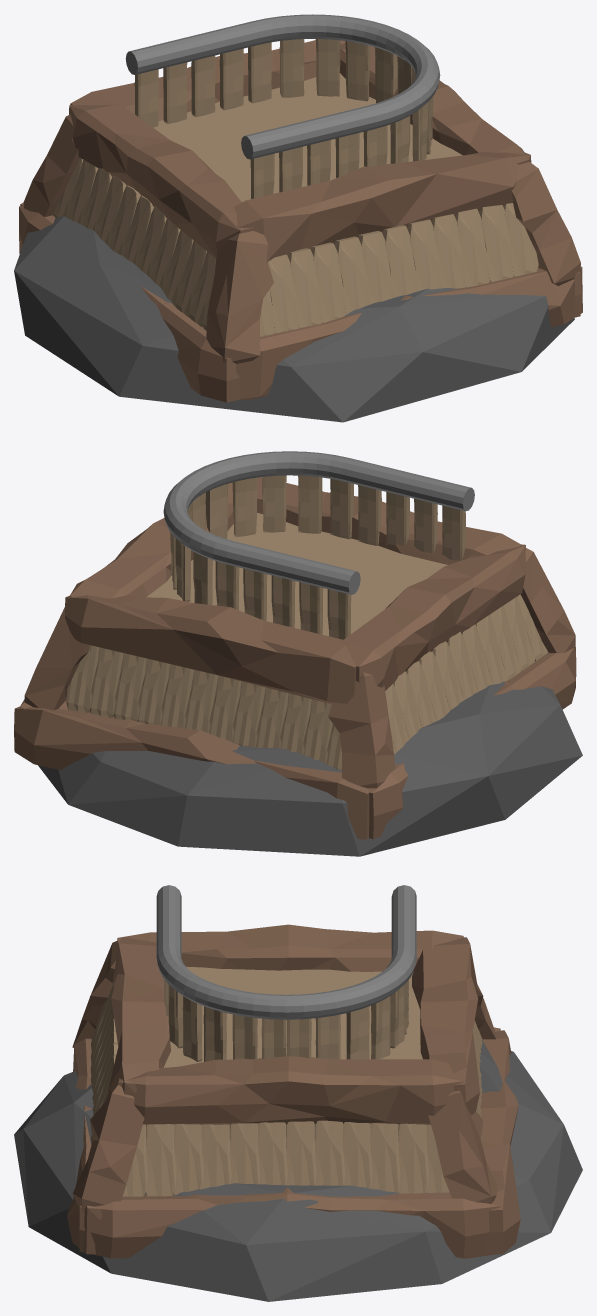
Rendered from TowerSmollTopping.fbx.
3 views of the same model, one above another, from view 1: azimuth 30°, elevation 25°; view 2: azimuth 150°, elevation 25°; view 3: azimuth 270°, elevation 25° (orthographic). The views are drawn at different scales.
Parts seen in each view (by area): view 1: WoodStructure, Roundstone, WoodenPlank, Plank, Top, CUBEEE; view 2: WoodStructure, Roundstone, WoodenPlank, Plank, Top, CUBEEE; view 3: WoodStructure, Roundstone, WoodenPlank, Plank, Top, CUBEEE.
Boxes of the visible parts, x1,y1,x2,y2 form: WoodStructure: [19, 40, 582, 402]; Roundstone: [14, 216, 574, 422]; WoodenPlank: [53, 158, 538, 336]; Plank: [134, 39, 433, 198]; Top: [125, 14, 440, 159]; CUBEEE: [153, 73, 462, 202]; WoodStructure: [14, 477, 576, 839]; Roundstone: [38, 681, 582, 856]; WoodenPlank: [66, 594, 548, 769]; Plank: [170, 475, 465, 639]; Top: [163, 451, 474, 594]; CUBEEE: [146, 513, 447, 636]; WoodStructure: [67, 924, 520, 1258]; Roundstone: [14, 1040, 582, 1301]; WoodenPlank: [90, 986, 482, 1196]; Plank: [164, 980, 408, 1061]; Top: [156, 885, 416, 1019]; CUBEEE: [164, 966, 422, 1124].
Bounding box in the file's own units: 250 × 116 × 249.
